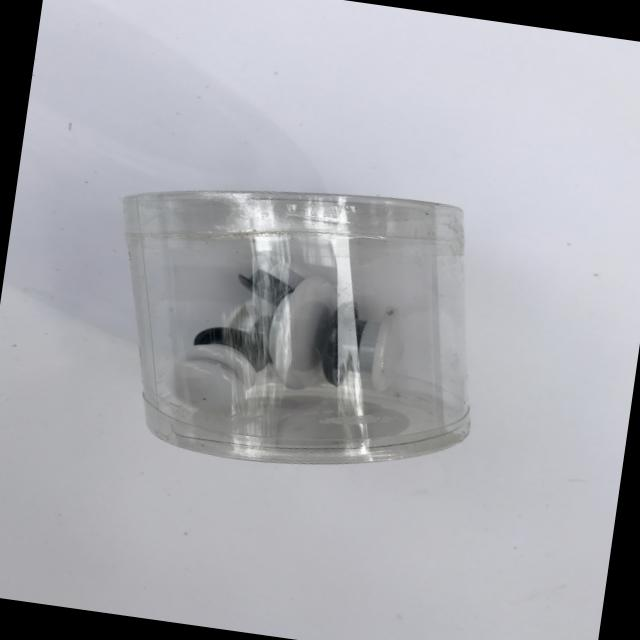Plastic: (79, 148, 519, 513)
